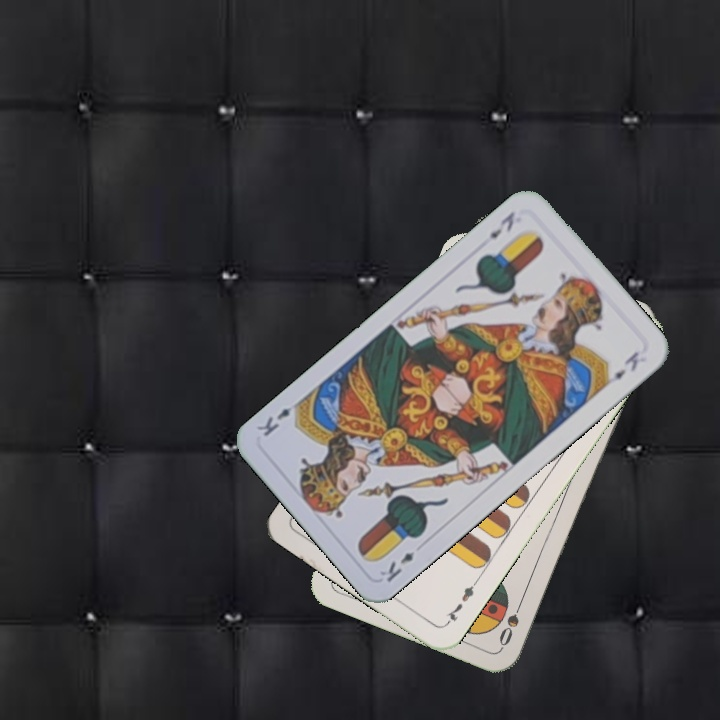E7: (441, 576, 481, 628)
EK: (375, 547, 418, 586), (485, 207, 518, 242)
SO: (494, 593, 527, 649)
